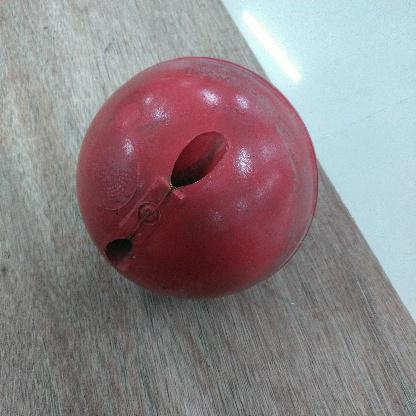red_buoy: (73, 49, 323, 307)
